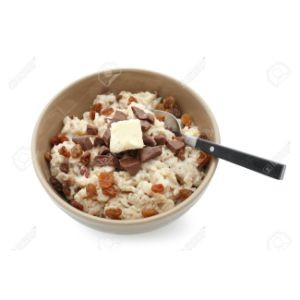oat_brain food: (53, 103, 189, 205)
